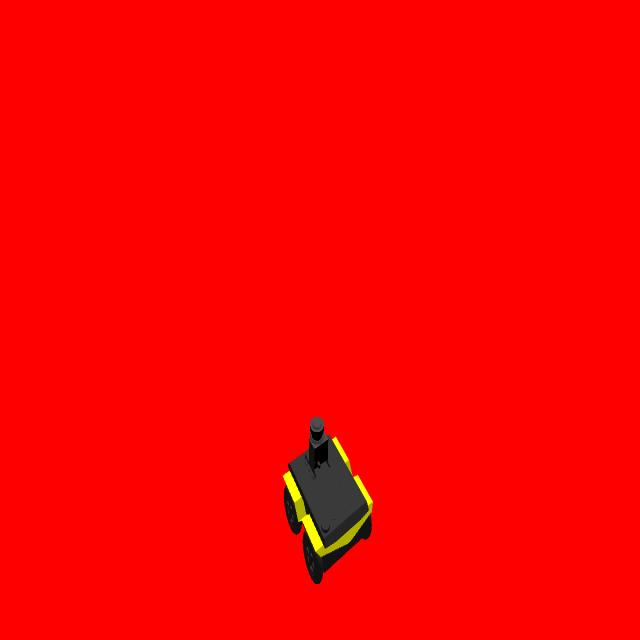jackal: (282, 413, 373, 587)
